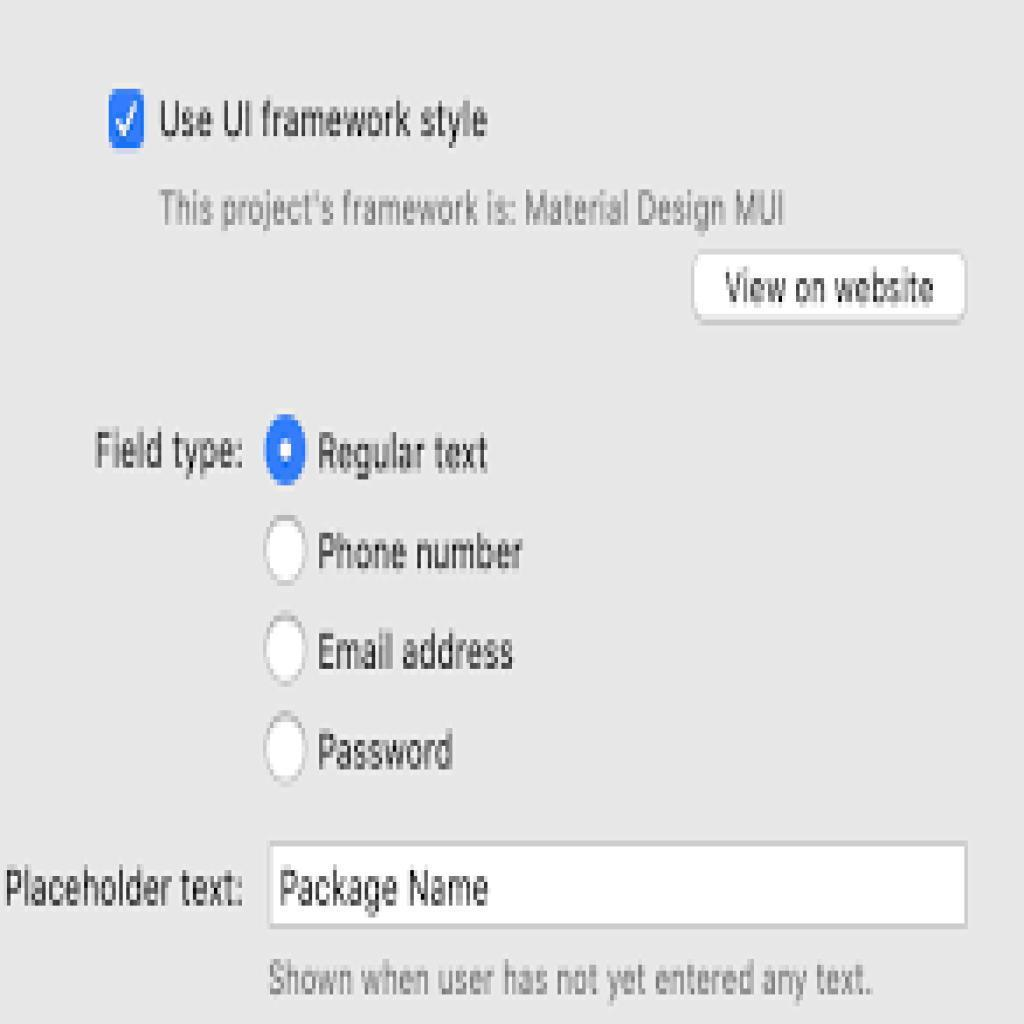button: (697, 254, 965, 322)
checkbox: (109, 90, 144, 149)
input: (271, 844, 969, 927)
radio: (261, 411, 312, 490), (264, 611, 312, 688), (263, 510, 312, 585), (265, 710, 311, 785)
